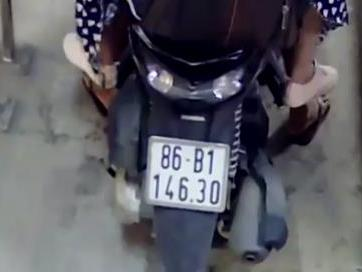num_plate: (144, 135, 230, 214)
